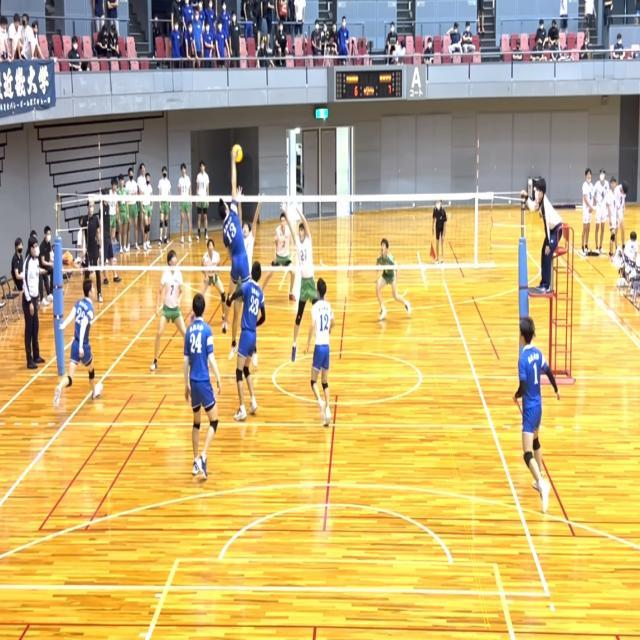spike: (214, 139, 256, 339)
